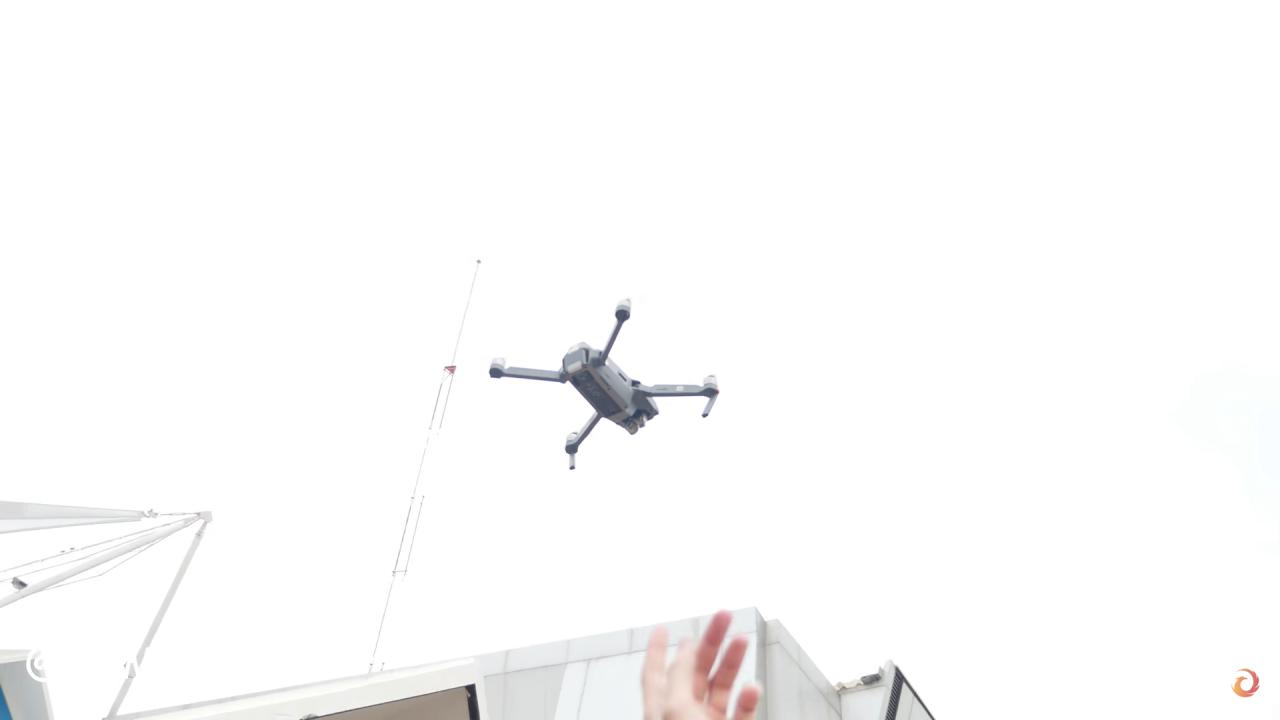Drone: (479, 281, 728, 483)
